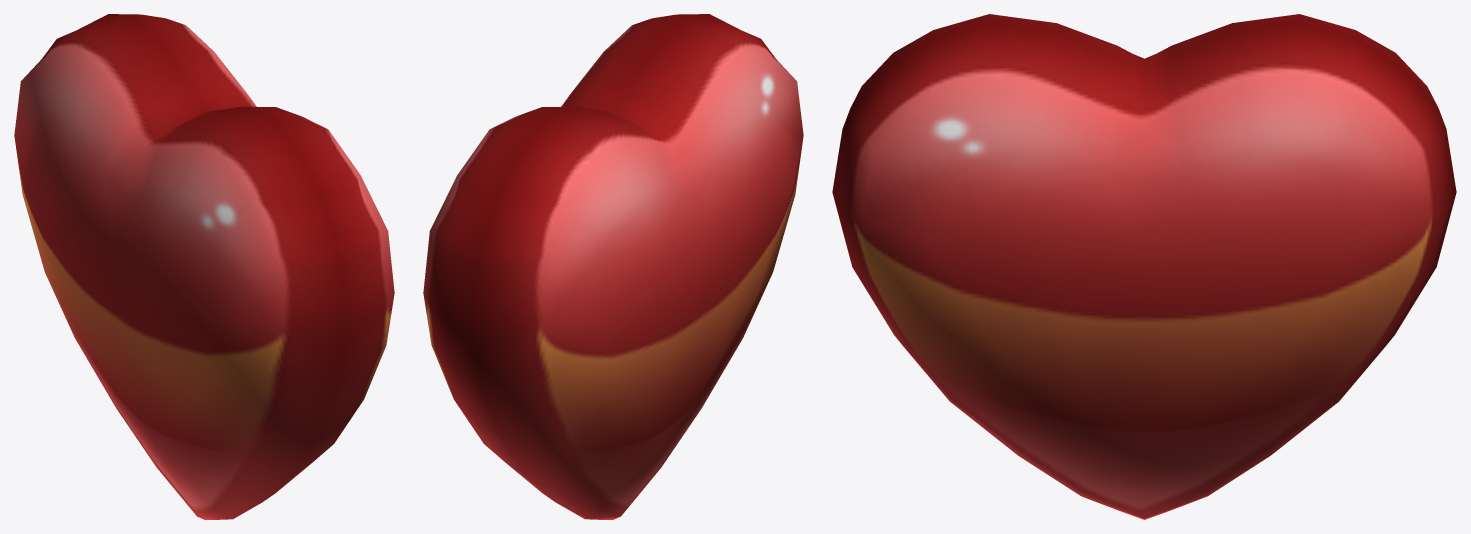
Rendered from heart001.FBX.
3 views of the same model, side by side, from view 1: azimuth 30°, elevation 25°; view 2: azimuth 150°, elevation 25°; view 3: azimuth 270°, elevation 25° (orthographic). The views are drawn at different scales.
Visible parts, largest first — view 1: heart01; view 2: heart01; view 3: heart01.
Boxes of the visible parts, x1,y1,x2,y2 form: heart01: (14, 14, 394, 519); heart01: (423, 14, 803, 519); heart01: (832, 14, 1456, 519).
Bounding box in the file's own units: 86.81 × 197 × 225.
Materials: 1 (1 with a texture image).
